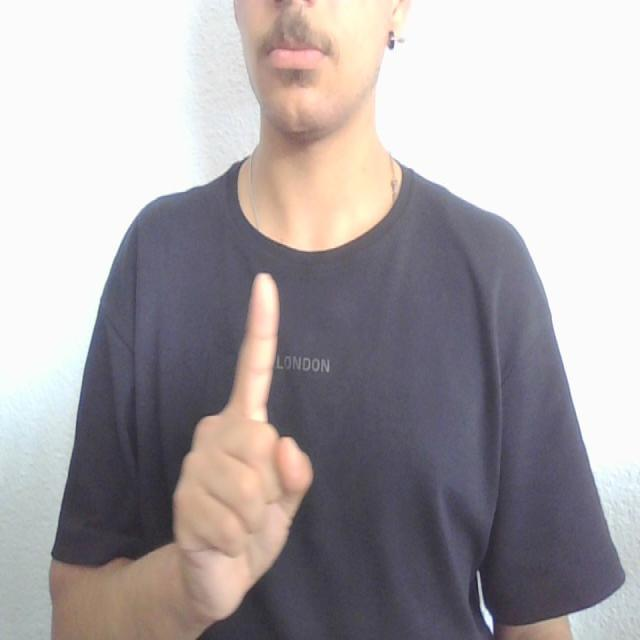Hayir: (147, 248, 317, 628)
